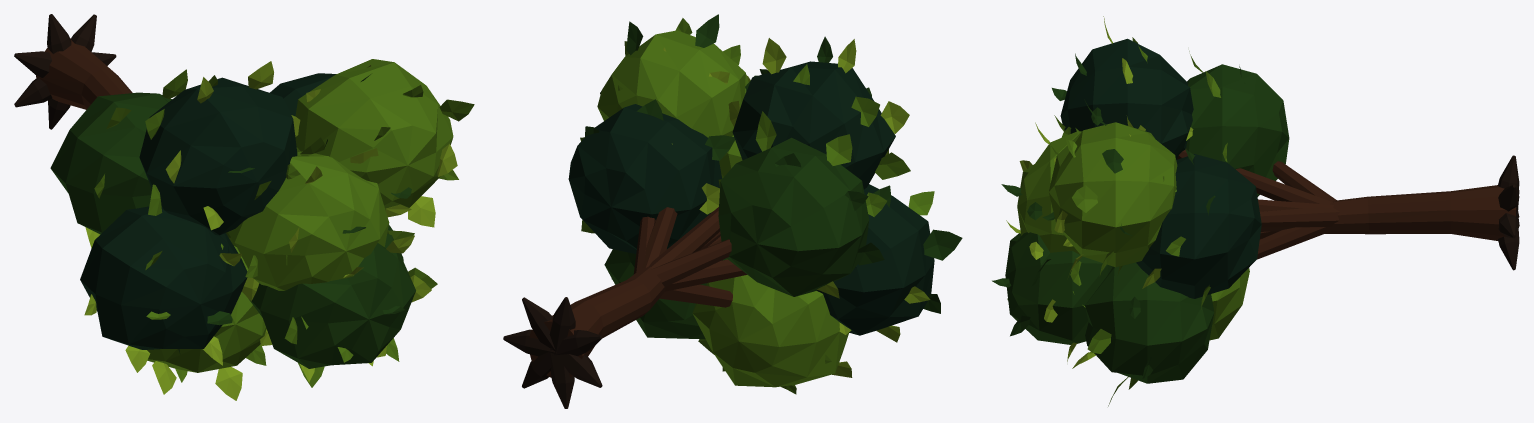
The model's file is Broadleaf.obj.
3 renders of one model, left to right at view 1: azimuth 30°, elevation 25°; view 2: azimuth 150°, elevation 25°; view 3: azimuth 270°, elevation 25°, orthographic. The views are drawn at different scales.
Visible parts, largest first — view 1: Broadleaf; view 2: Broadleaf; view 3: Broadleaf.
Part boxes in pixels (x1,y1,x2,y2): Broadleaf: (14,14,474,400); Broadleaf: (503,14,962,408); Broadleaf: (992,16,1519,406).
Bounding box in the file's own units: 470 × 430 × 640.
